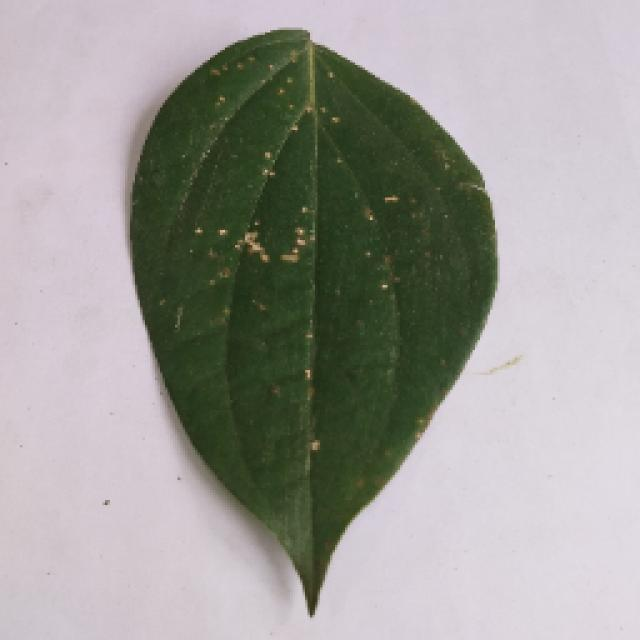pollu-disease: (127, 28, 495, 610)
